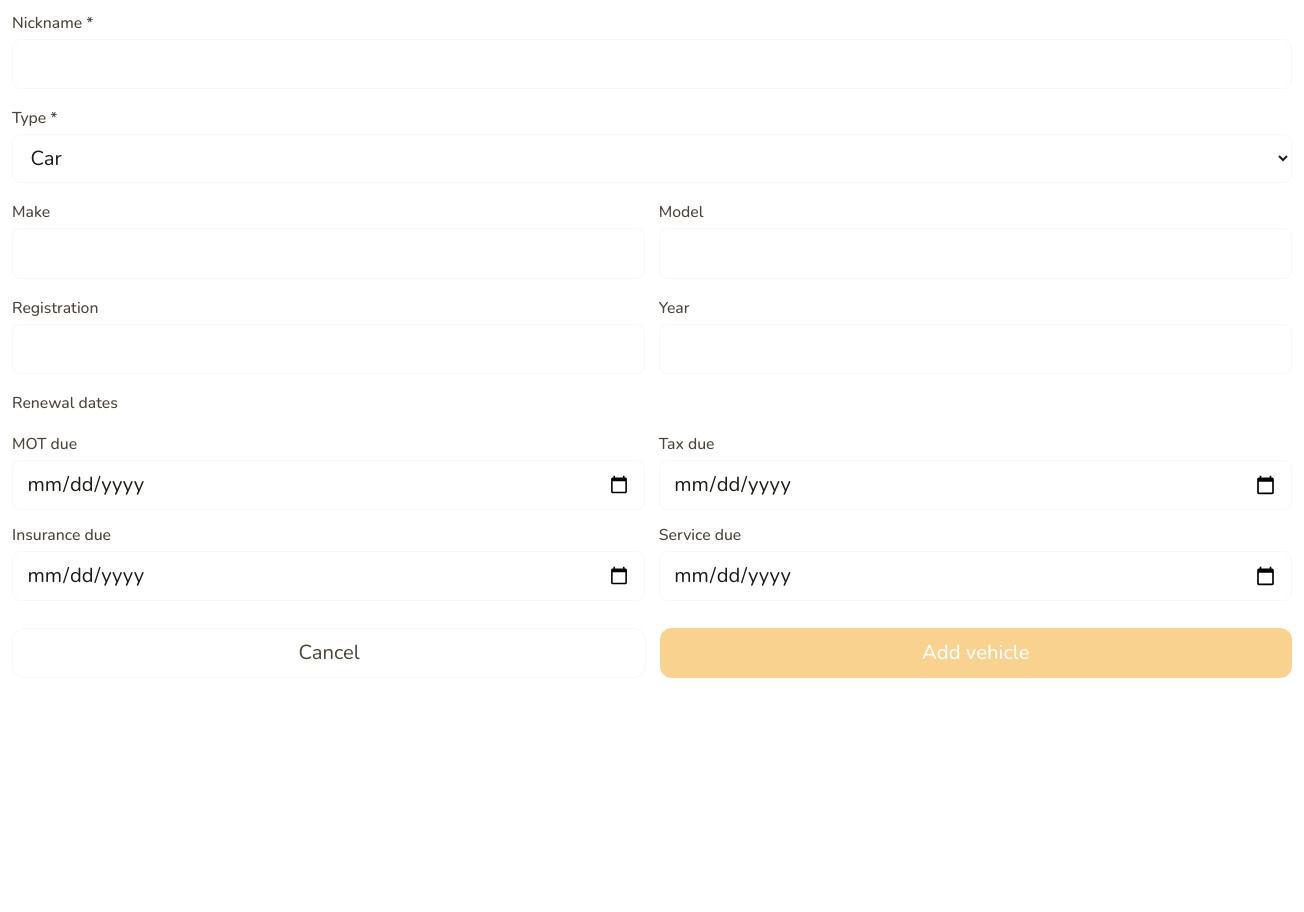
Scenario: VehicleForm › hides MOT field for bicycle type
Change type to bicycle
Step 1. Select "Bicycle" in the dropdown labelled "Type *" → {"x": 652, "y": 159}, box [12,134,1292,183]
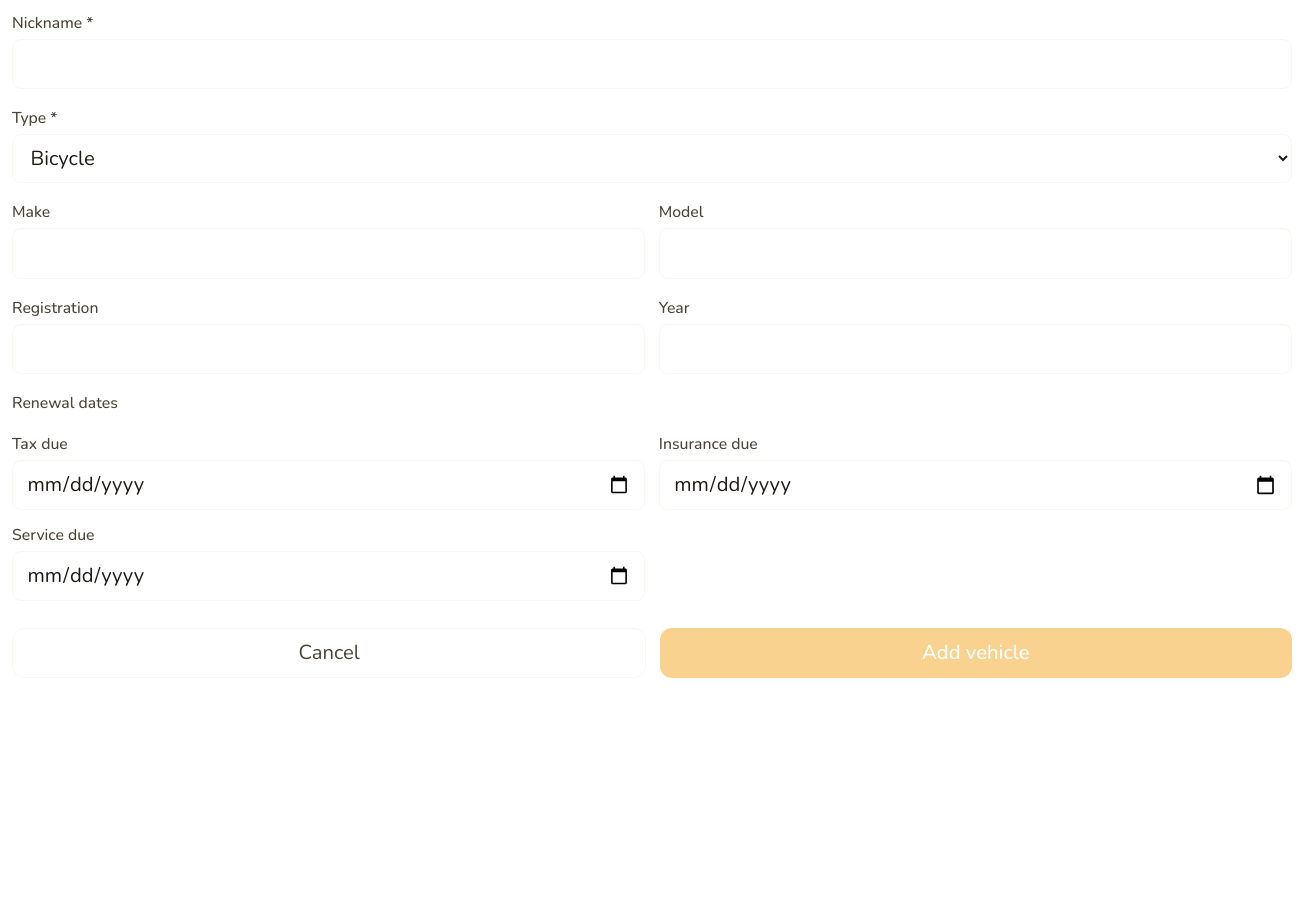
Now the label labelled "MOT due" is gone
